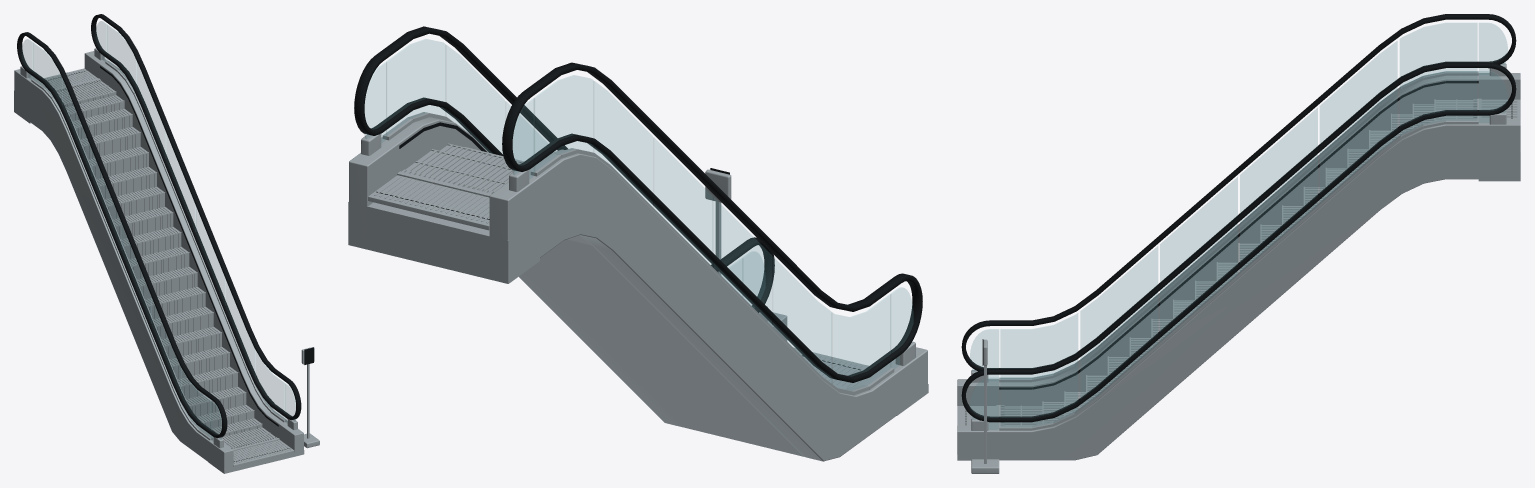
The model's file is source-edit.glb.
3 views of the same model, side by side, from view 1: azimuth 30°, elevation 25°; view 2: azimuth 150°, elevation 25°; view 3: azimuth 270°, elevation 25° (orthographic). The views are drawn at different scales.
Parts seen in each view (by area): view 1: FRAME_Chassis, BALUSTRADE_Glass, HANDRAIL_Belts, LANDING_Plates, STEP_014, STEP_011, STEP_012, STEP_013, STEP_010, STEP_018, STEP_008, STEP_015 (+15 smaller); view 2: FRAME_Chassis, BALUSTRADE_Glass, HANDRAIL_Belts, LANDING_Plates, STEP_021, STEP_022, SIGNAGE_BlankPost, COMB_Plates, STEP_020; view 3: FRAME_Chassis, BALUSTRADE_Glass, HANDRAIL_Belts, LANDING_Plates, SIGNAGE_BlankPost.
Boxes of the visible parts, bbox=[...] form: FRAME_Chassis: bbox=[14, 48, 304, 473]; BALUSTRADE_Glass: bbox=[22, 21, 295, 441]; HANDRAIL_Belts: bbox=[17, 14, 301, 461]; LANDING_Plates: bbox=[44, 68, 294, 466]; STEP_014: bbox=[112, 207, 173, 239]; STEP_011: bbox=[137, 267, 197, 299]; STEP_012: bbox=[129, 247, 189, 279]; STEP_013: bbox=[121, 227, 181, 259]; STEP_010: bbox=[145, 287, 205, 319]; STEP_018: bbox=[80, 127, 140, 159]; STEP_008: bbox=[161, 327, 221, 359]; STEP_015: bbox=[104, 187, 165, 219]; FRAME_Chassis: bbox=[348, 112, 928, 461]; BALUSTRADE_Glass: bbox=[364, 39, 913, 390]; HANDRAIL_Belts: bbox=[354, 26, 922, 382]; LANDING_Plates: bbox=[368, 175, 868, 387]; STEP_021: bbox=[417, 149, 514, 182]; STEP_022: bbox=[405, 161, 506, 192]; SIGNAGE_BlankPost: bbox=[705, 168, 731, 274]; COMB_Plates: bbox=[397, 169, 848, 389]; STEP_020: bbox=[440, 143, 523, 167]; FRAME_Chassis: bbox=[957, 63, 1520, 460]; BALUSTRADE_Glass: bbox=[970, 23, 1507, 429]; HANDRAIL_Belts: bbox=[961, 14, 1516, 424]; LANDING_Plates: bbox=[957, 99, 1520, 425]; SIGNAGE_BlankPost: bbox=[971, 339, 999, 473].
Bounding box in the file's own units: 1.67 × 4.64 × 6.
